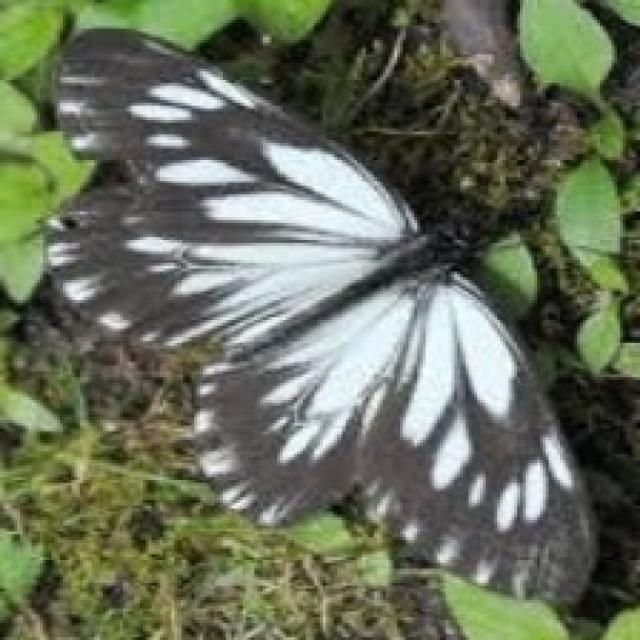butterfly: (37, 23, 600, 611)
